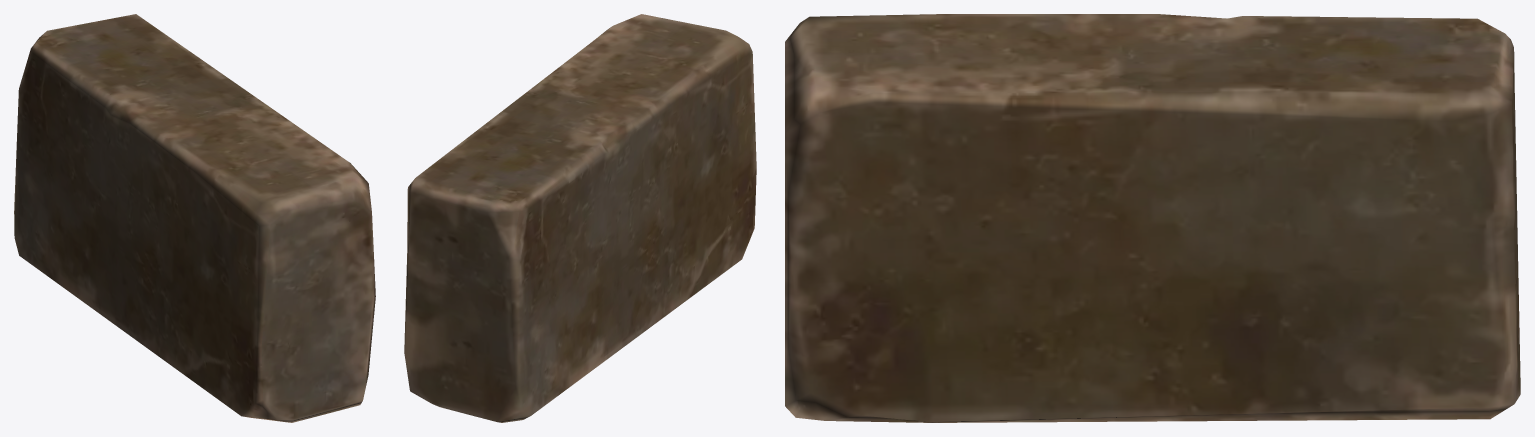
3 views of the same model, side by side, from view 1: azimuth 30°, elevation 25°; view 2: azimuth 150°, elevation 25°; view 3: azimuth 270°, elevation 25° (orthographic). The views are drawn at different scales.
Visible parts, largest first — view 1: SM_DK_Brick_07_LOD0; view 2: SM_DK_Brick_07_LOD0; view 3: SM_DK_Brick_07_LOD0.
Boxes of the visible parts, x1=… form: SM_DK_Brick_07_LOD0: x1=14, y1=14, x2=375, y2=422; SM_DK_Brick_07_LOD0: x1=404, y1=14, x2=756, y2=422; SM_DK_Brick_07_LOD0: x1=785, y1=14, x2=1520, y2=422.
Size of the model in its own units: 0.8042 by 1.36 by 2.7.
1 material, 1 textured.
